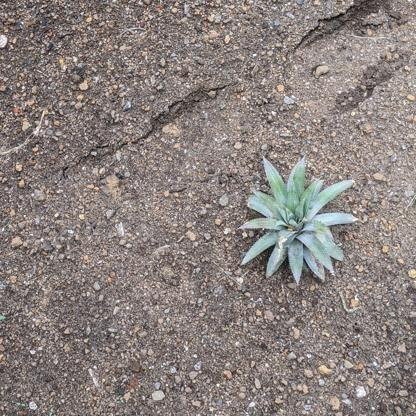pineapple: (237, 155, 358, 287)
